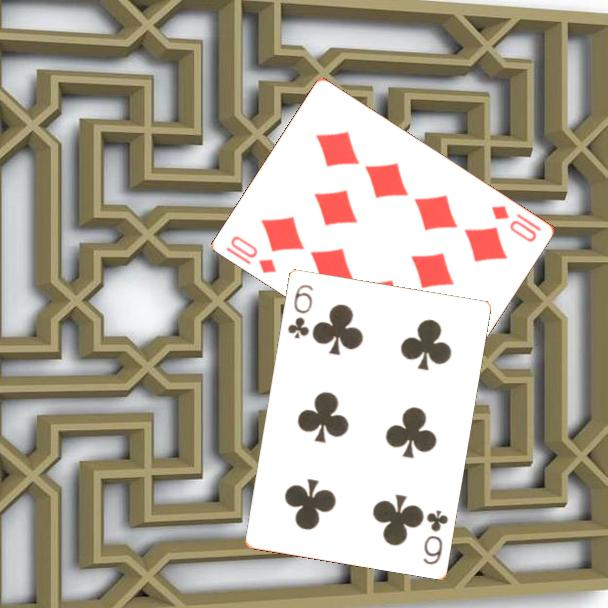c06: (419, 506, 451, 567), (284, 281, 316, 341)
d10: (222, 232, 280, 276), (488, 201, 540, 245)
